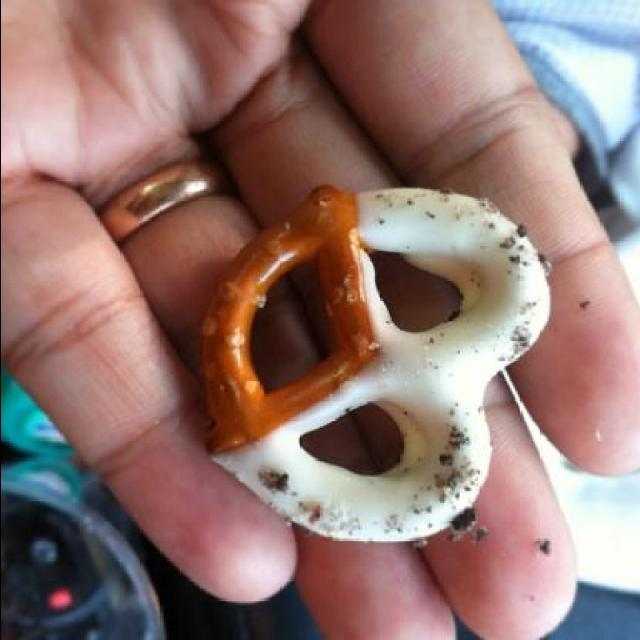Salatini packaged: (200, 186, 551, 548)
